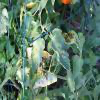Tomato Septoria leaf spot: (46, 29, 73, 71), (30, 32, 46, 75), (63, 27, 86, 51), (16, 61, 30, 91), (31, 65, 45, 95), (34, 72, 57, 90), (72, 54, 83, 83), (25, 20, 40, 40), (44, 17, 52, 32)
